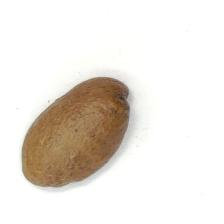NG: (119, 80, 131, 119)
